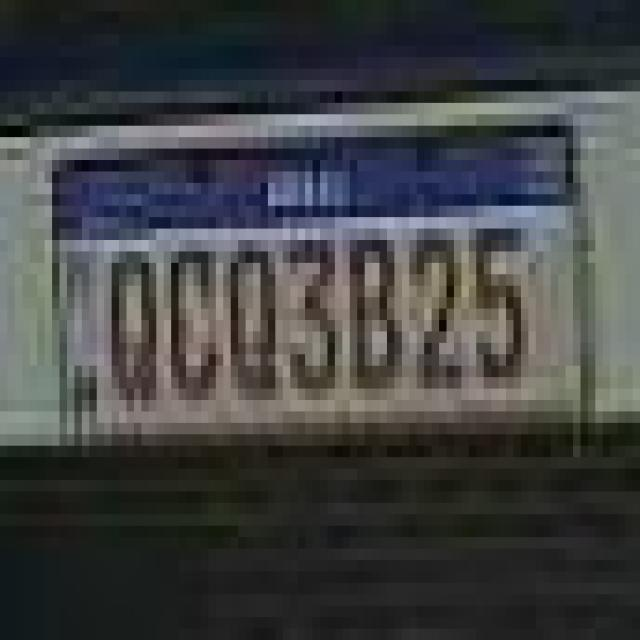3: (285, 227, 344, 397)
5: (469, 213, 535, 392)
B: (345, 224, 408, 396)
C: (165, 241, 222, 400)
Q: (224, 232, 280, 408), (107, 242, 161, 409)
